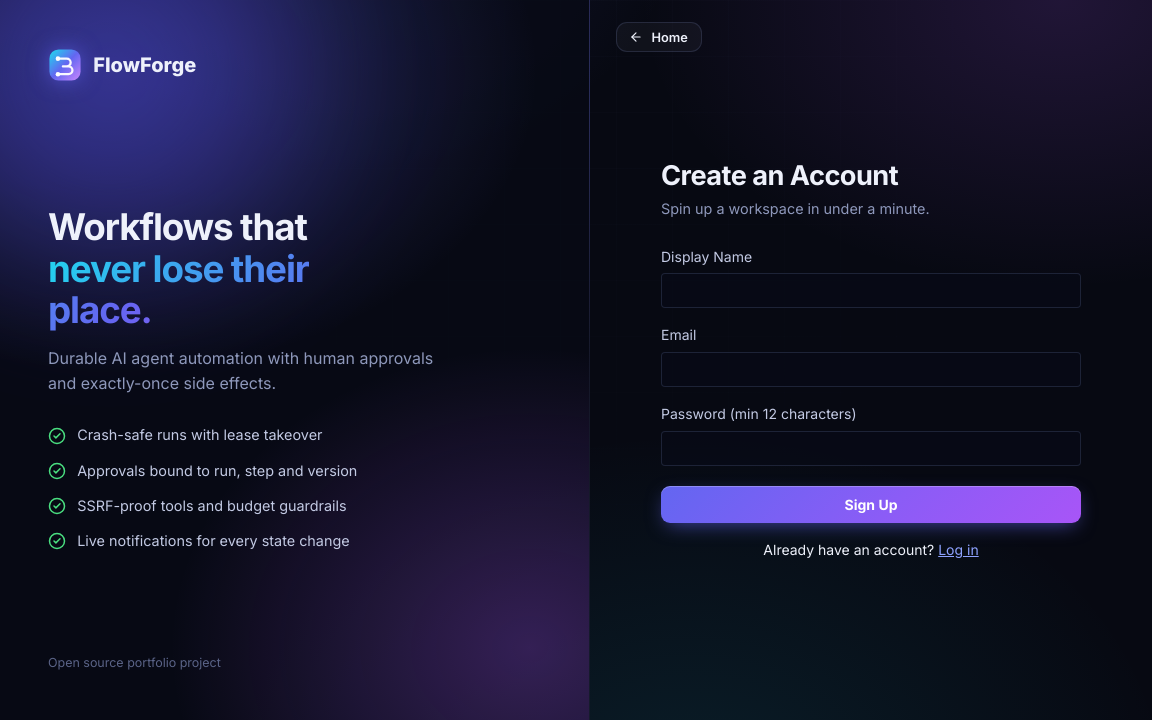
Test case: Frontend Auth Suite (P2-F01 to P2-F04) › P2-F02: Signup page displays field errors when server returns 422/409, disables submit while pending
Type "Ada Lovelace" into the field with test id "signup-name". click: (871, 291)
box: [661,273,1081,308]
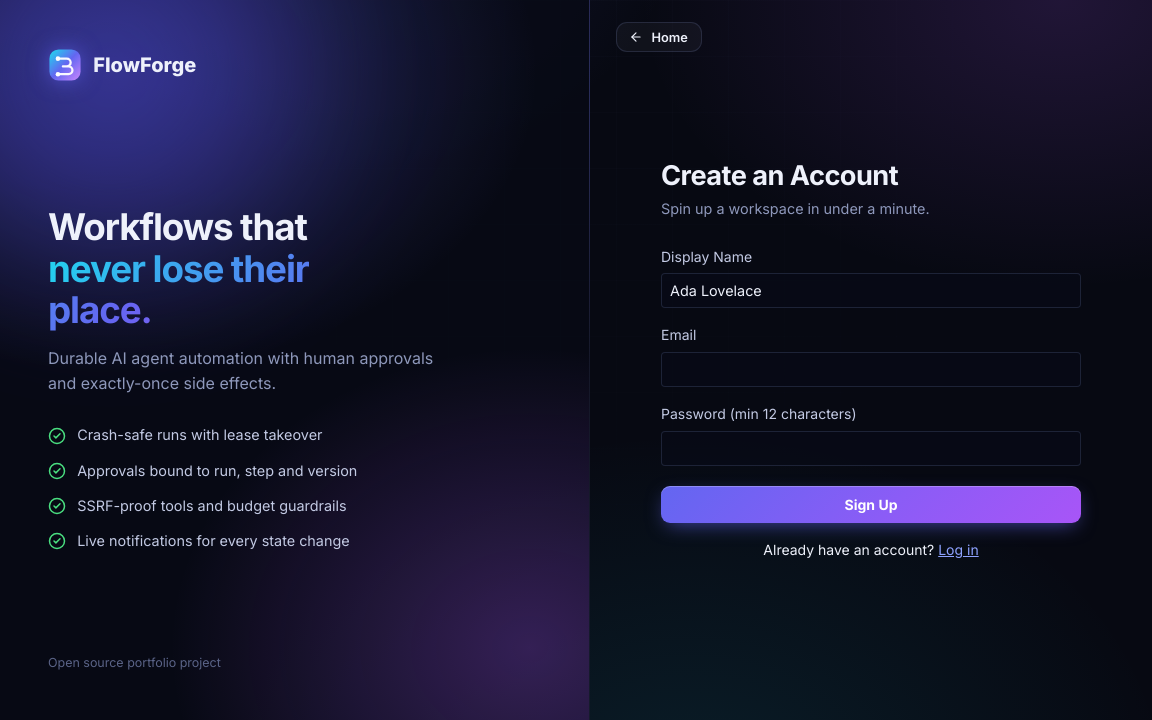
Type "ada@example.com" into the field with test id "signup-email". click: (871, 370)
box: [661,352,1081,387]
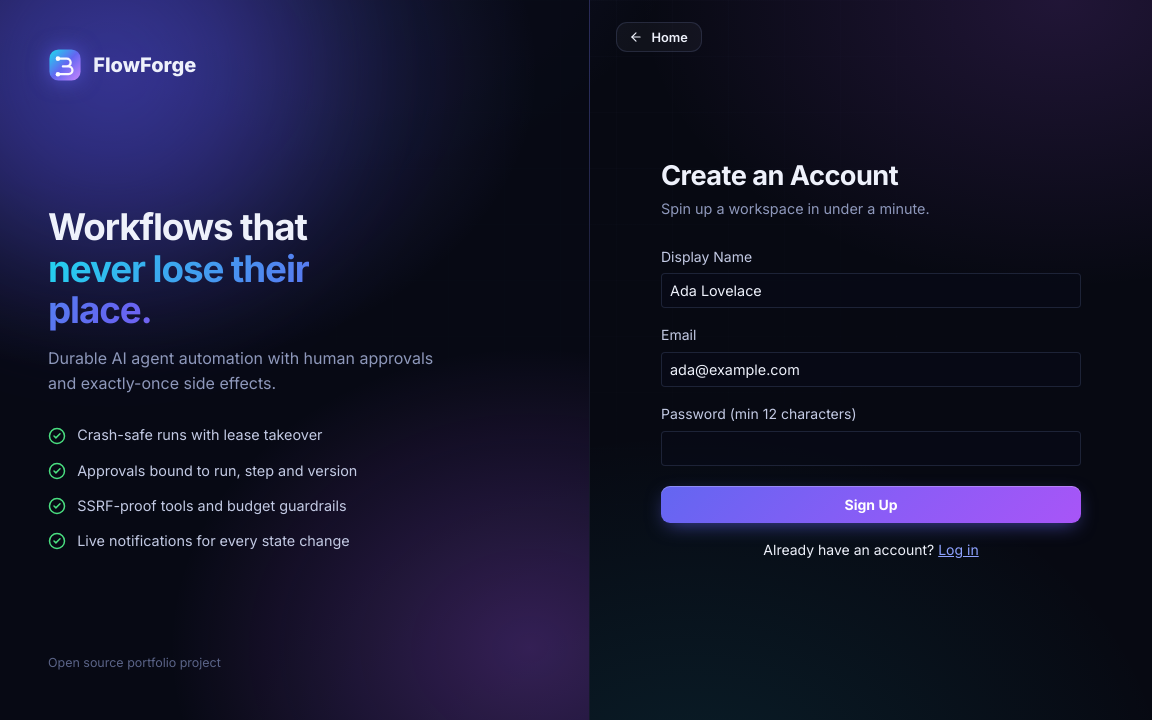
Type "short" into the password field with test id "signup-password". click: (871, 448)
box: [661,431,1081,466]
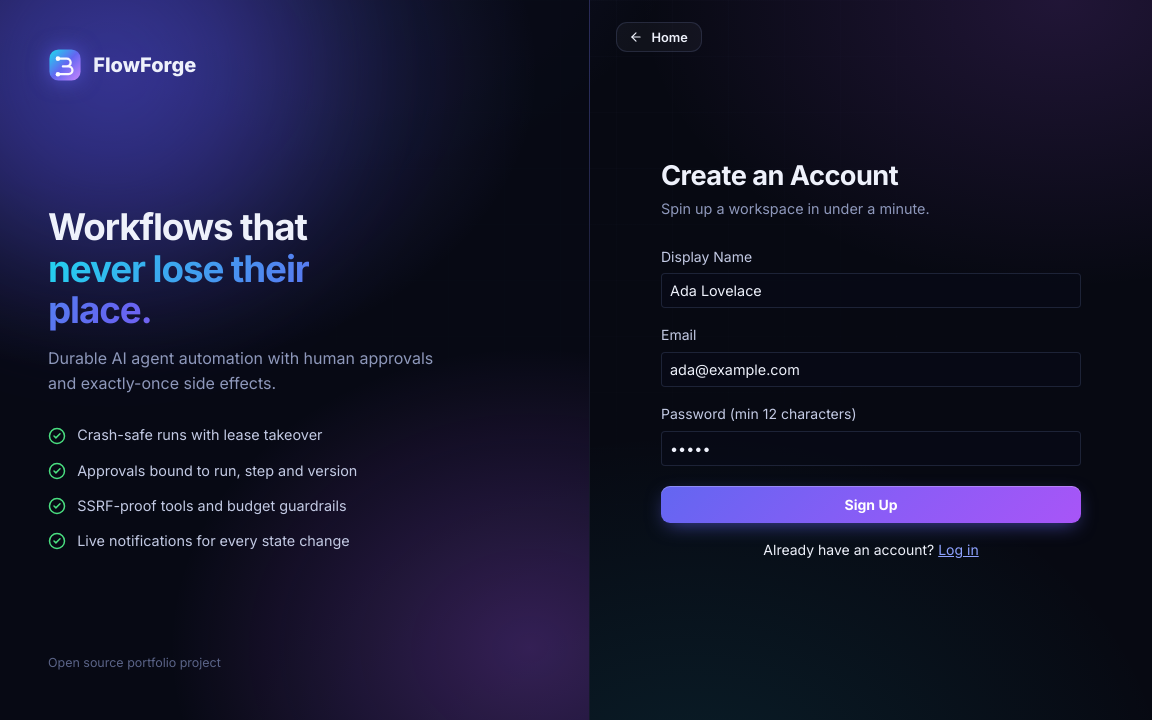
Click the button with test id "signup-submit". click: (871, 504)
box: [661,486,1081,523]
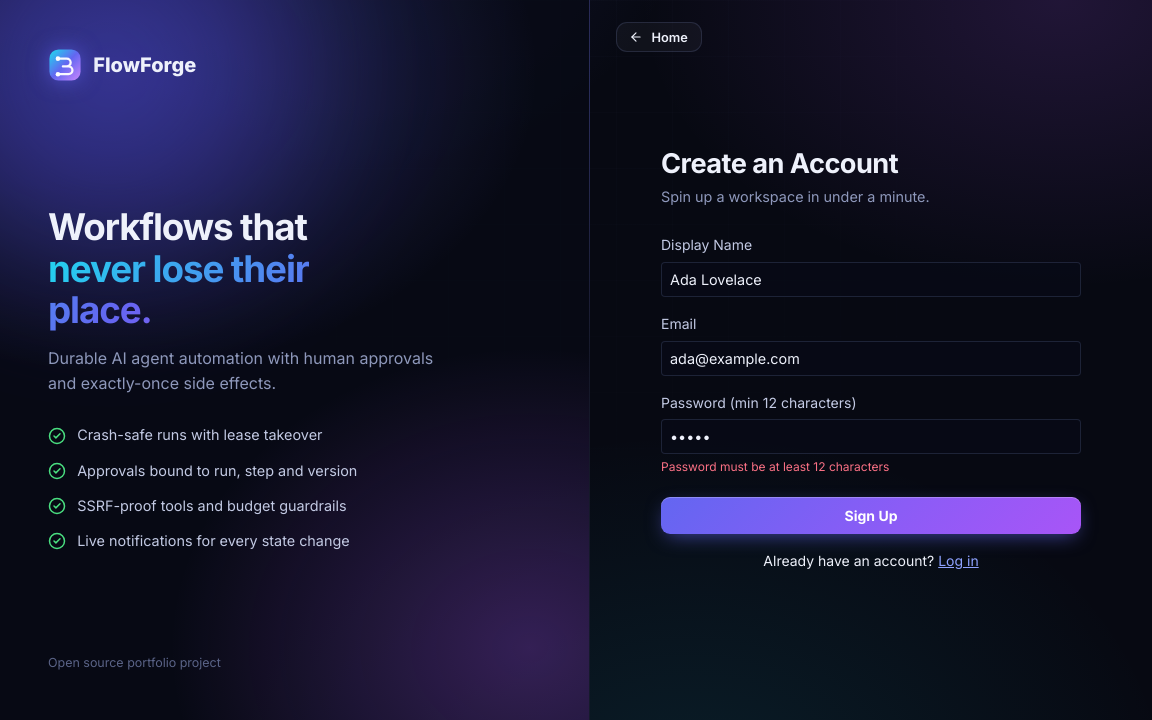
Now the text with test id "error-password" reads "Password must be at least 12 characters", box [661,460,889,474]
Type "Password123456!" into the password field with test id "signup-password". click: (871, 437)
box: [661,420,1081,454]
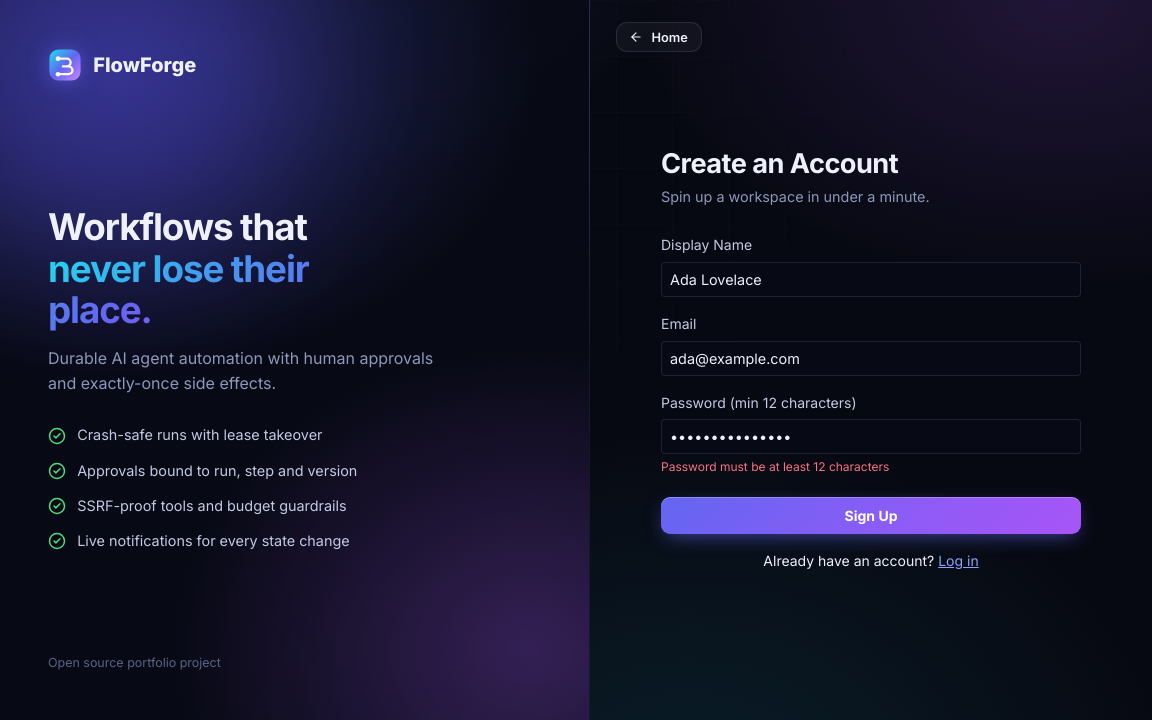
Click the button with test id "signup-submit". click: (871, 516)
box: [661,497,1081,534]
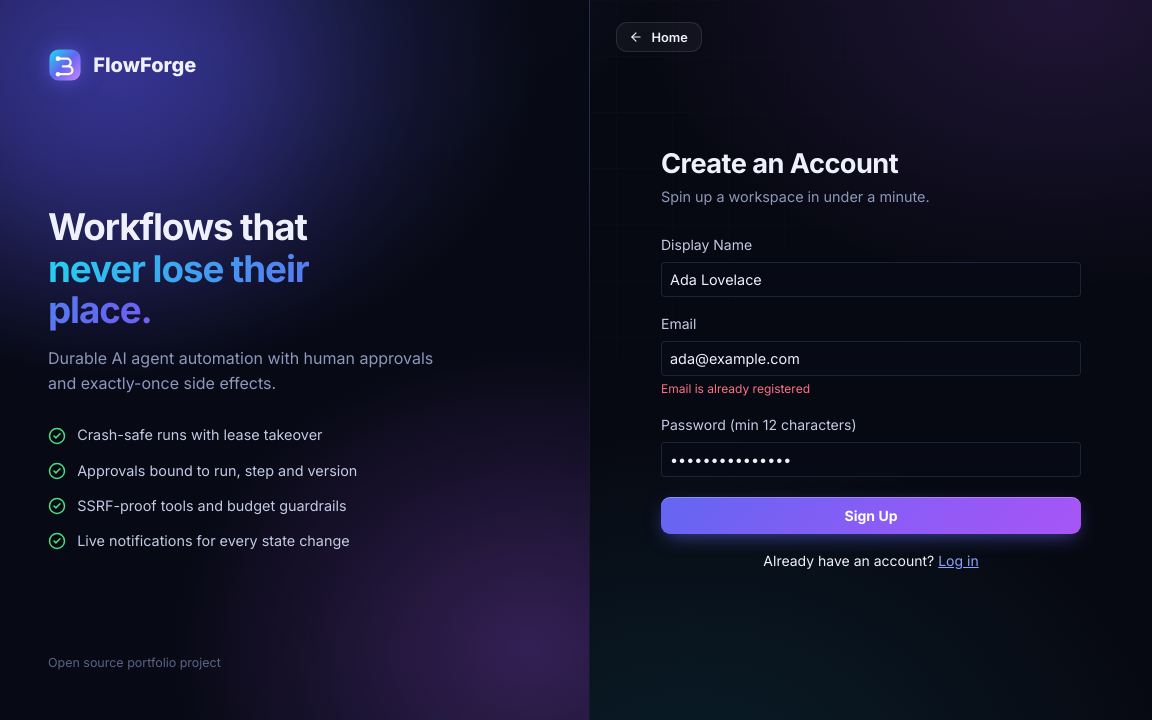
Now the text with test id "error-email" reads "Email is already registered", box [661,381,810,396]
